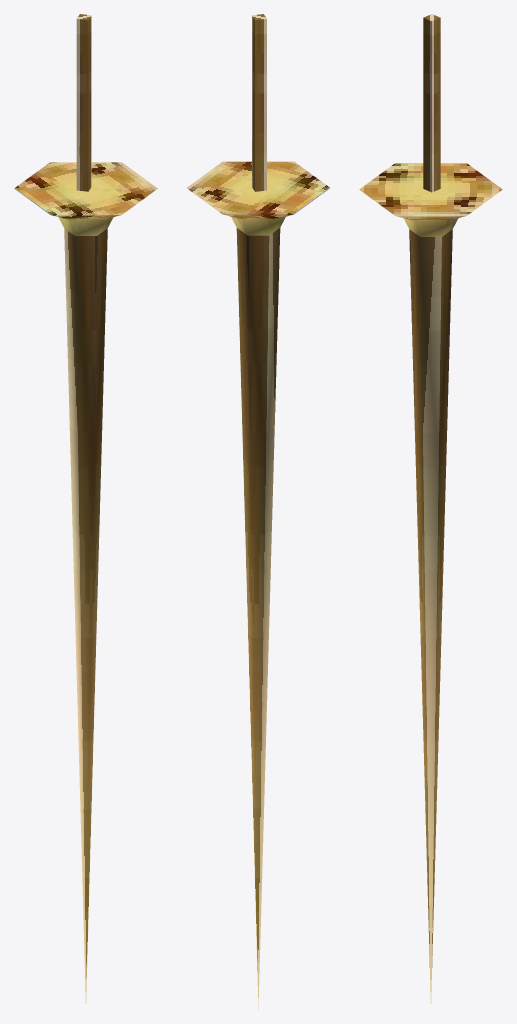
The model's file is Spear03.glb.
3 renders of one model, left to right at view 1: azimuth 30°, elevation 25°; view 2: azimuth 150°, elevation 25°; view 3: azimuth 270°, elevation 25°, orthographic.
Parts seen in each view (by area): view 1: model_Spear03; view 2: model_Spear03; view 3: model_Spear03.
Part boxes in pixels (left/top/right/bottom): model_Spear03: left=14, top=14, right=157, bottom=1003; model_Spear03: left=187, top=14, right=329, bottom=1009; model_Spear03: left=359, top=14, right=502, bottom=1003.
Size of the model in its own units: 0.2617 by 2.3 by 0.3022.
1 material, 1 textured.
